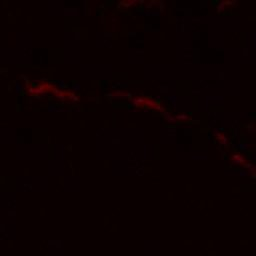debris: (25, 80, 62, 95), (128, 93, 159, 109), (158, 107, 187, 123), (232, 153, 252, 168), (59, 91, 80, 101), (215, 130, 228, 145), (113, 88, 133, 97)
